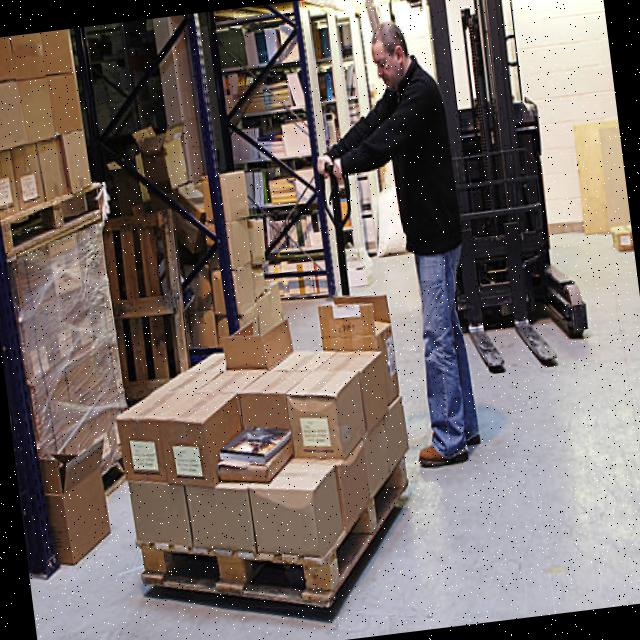Wooden-Pallets: (129, 439, 415, 613)
